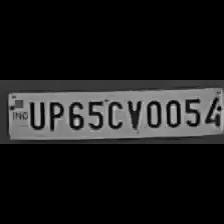0: (142, 97, 162, 128), (163, 96, 181, 128)
4: (202, 94, 222, 128)
5: (84, 97, 104, 130), (181, 95, 201, 127)
6: (64, 98, 84, 130)
C: (104, 97, 124, 130)
P: (44, 98, 64, 132)
U: (25, 98, 45, 130)
V: (124, 96, 142, 130)
